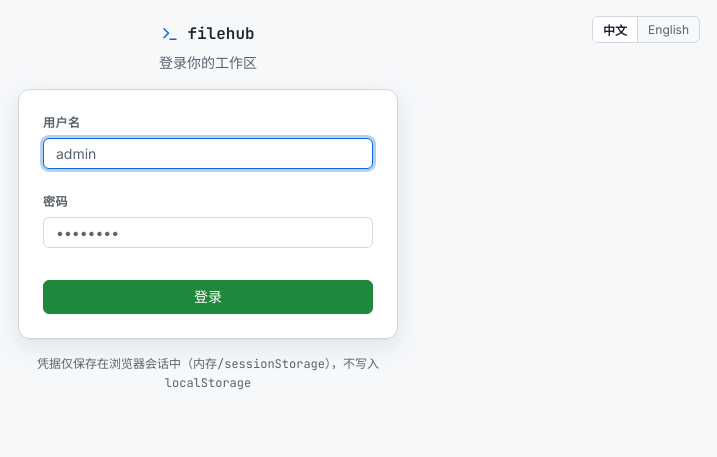
Scenario: LoginPage › shows the server message when the account envelope reports failure
Type "alice" into the field labelled "用户名".
click(208, 154); type("alice")  # box [43,138,373,169]
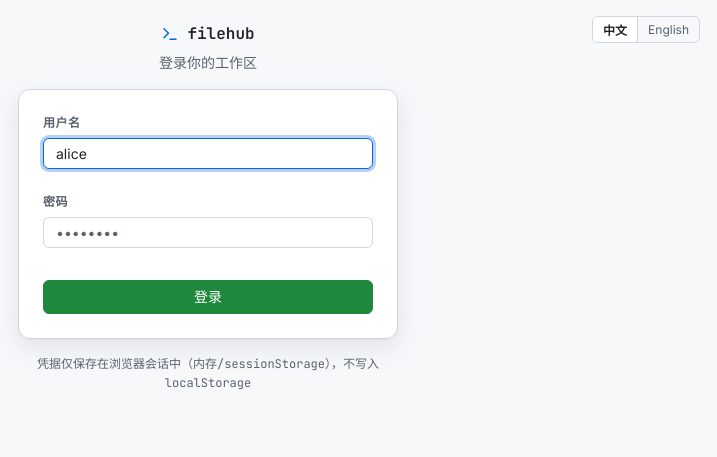
Type "wrong" into the password field labelled "密码".
click(208, 232); type("wrong")  # box [43,217,373,248]
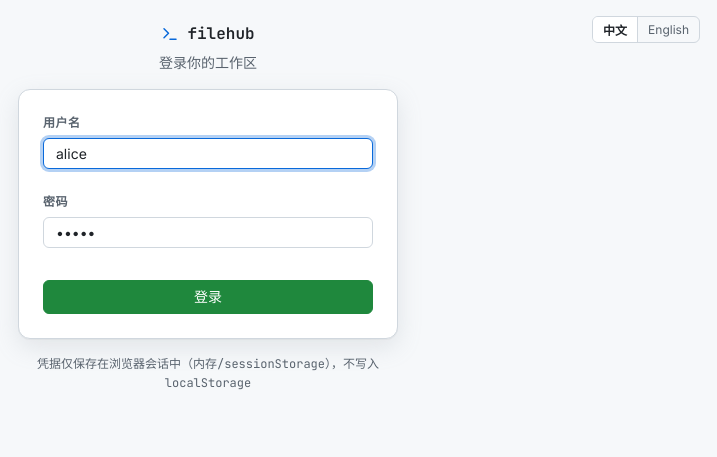
Click the button "登录".
click(208, 297)  # box [43,280,373,314]
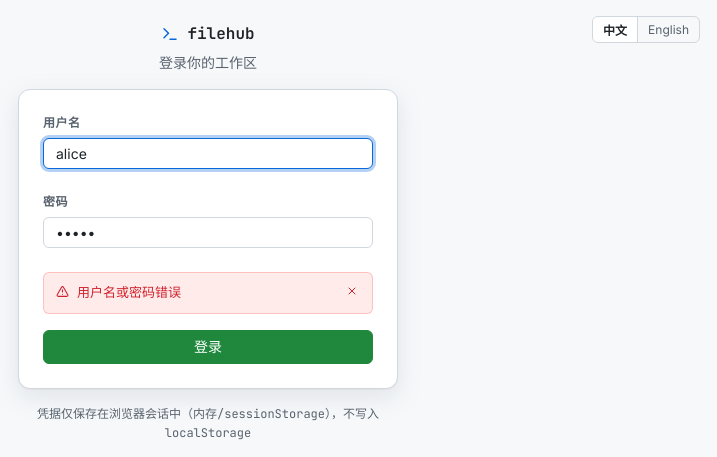
Expected: the message reads "用户名或密码错误", [77,284,181,300]
